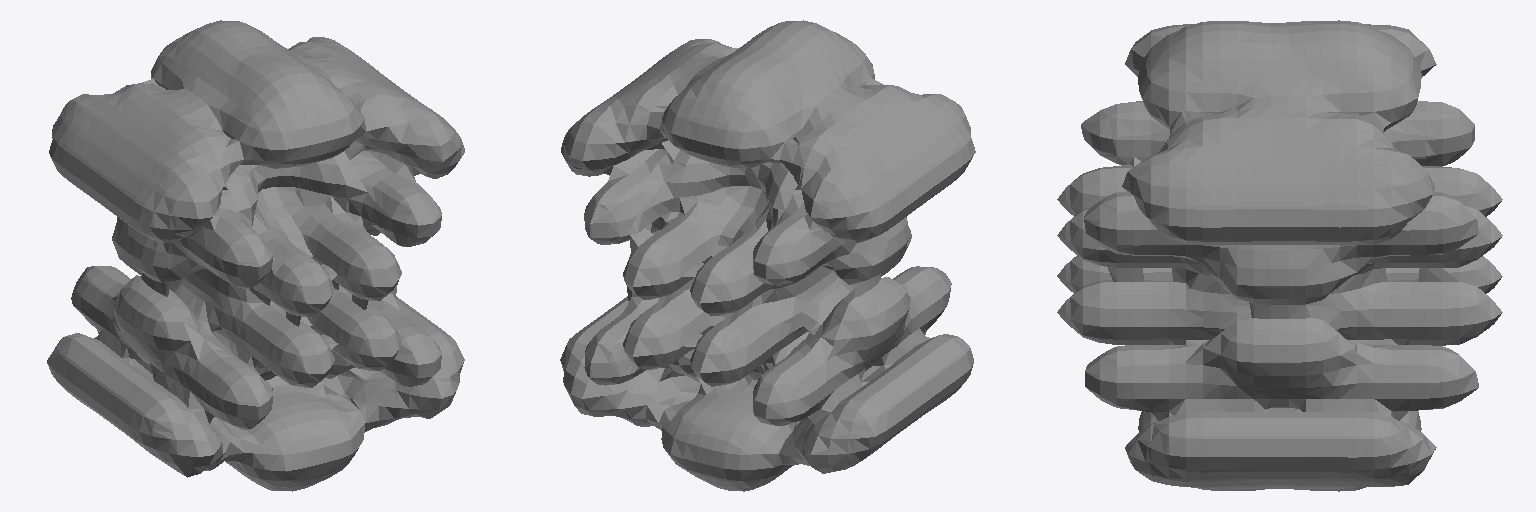
robot.urdf — cube.urdf:
<?xml version="0.0" ?> 
<robot name="cube.urdf"> 
<link name="legobrick"> 
<contact> 
<lateral_friction value="5.0"/> 
<rolling_friction value="0.0"/> 
<contact_cfm value="0.0"/> 
<contact_erp value="1.0"/> 
</contact> 
<inertial> 
<origin rpy="0 0 0" xyz="0.0 0.0 0.0"/> 
<mass value=".01"/> 
<inertia ixx="1" ixy="0" ixz="0" iyy="1" iyz="0" izz="1"/> 
</inertial> 
<visual> 
<origin rpy="1.570796 0 0" xyz="-0.03204920305507869 0.032044476194071476 -0.032040439521196465"/> 
<geometry> 
<mesh filename="K24_0.obj" scale="0.0006427496129866561 0.0006427496129866561 0.0006427496129866561"/> 
</geometry> 
<material name="yellow"> 
<color rgba="0.6 0.6 0.6 1"/> 
</material> 
</visual> 
<collision> 
<origin rpy="1.570796 0 0" xyz="-0.03204920305507869 0.032044476194071476 -0.032040439521196465"/> 
<geometry> 
<mesh filename="K24_0.obj" scale="0.0006427496129866561 0.0006427496129866561 0.0006427496129866561"/> 
</geometry> 
</collision> 
</link> 
</robot>

--- Facts derived from the render (not from the file) ---
3 views of the same robot in one strip: view 1: azimuth 30°, elevation 25°; view 2: azimuth 150°, elevation 25°; view 3: azimuth 270°, elevation 25° (orthographic).
Robot: cube.urdf — 1 links, 0 joints (none); root link legobrick; default pose: every joint at zero.
Visible links, largest first — view 1: legobrick; view 2: legobrick; view 3: legobrick.
Boxes of the visible links, <box> form: legobrick: <box>47,20,464,491</box>; legobrick: <box>560,20,975,491</box>; legobrick: <box>1057,20,1502,491</box>.
Size in the robot's own frame: 0.0514 by 0.056 by 0.0634 metres.
1 mesh visuals loaded from 1 distinct referenced files (1 OBJ).
